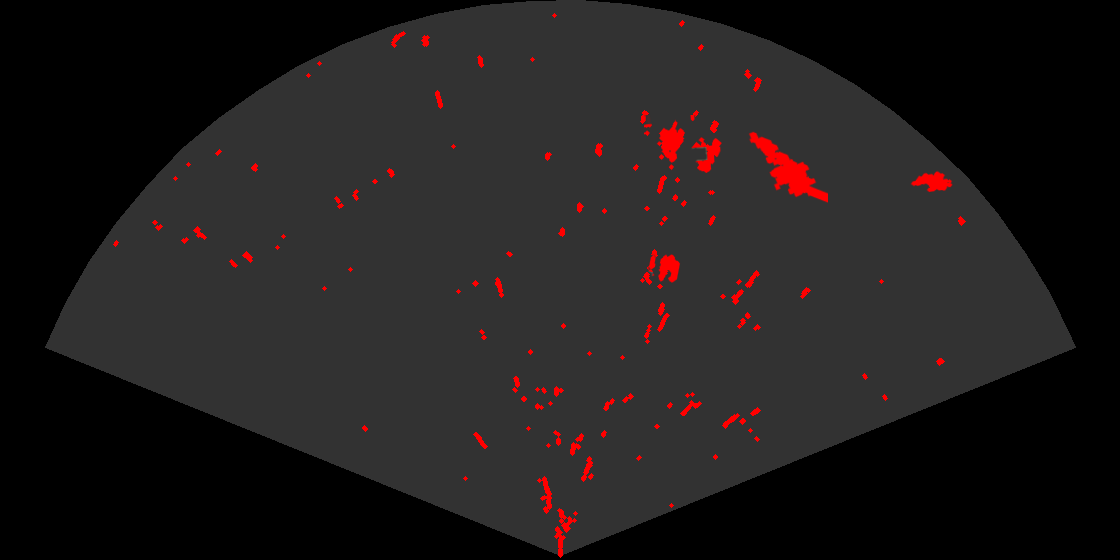AUV: (909, 169, 954, 194)
ball: (647, 253, 682, 284)
cage: (644, 115, 723, 175)
frogman: (747, 130, 828, 205)
